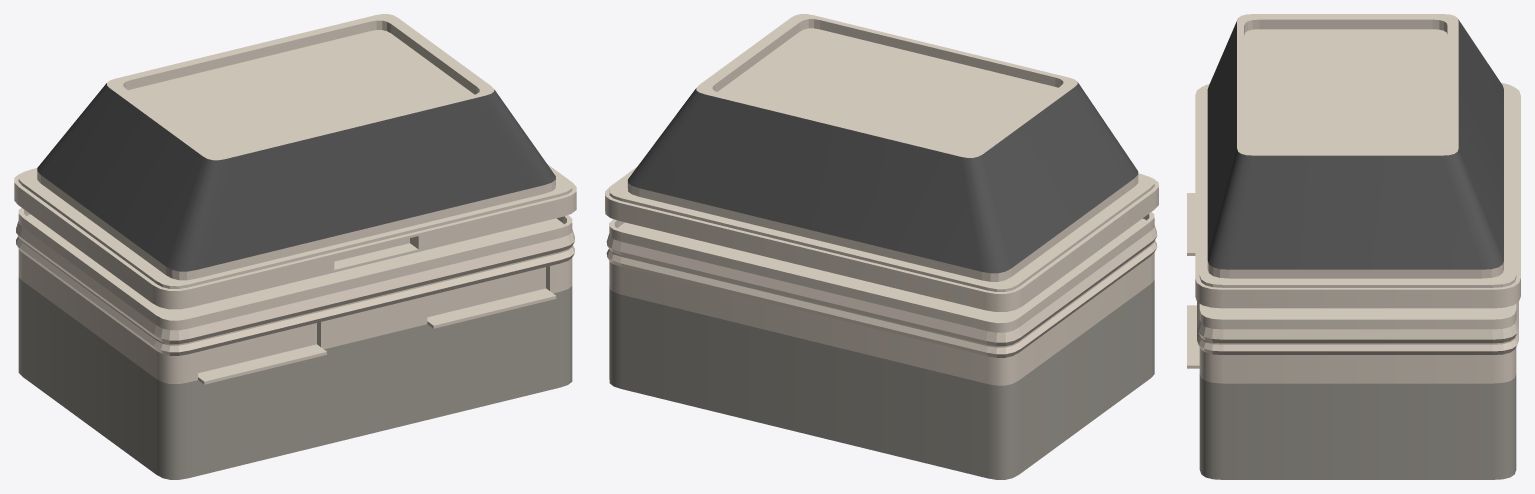
The model's file is bld_stackable_02.fbx.
The picture shows the model from 3 angles, left to right: view 1: azimuth 30°, elevation 25°; view 2: azimuth 150°, elevation 25°; view 3: azimuth 270°, elevation 25°; orthographic projection. The views are drawn at different scales.
Visible parts, largest first — view 1: bld_stackable_02; view 2: bld_stackable_02; view 3: bld_stackable_02.
Part boxes in pixels (x1,y1,x2,y2): bld_stackable_02: (14,14,576,479); bld_stackable_02: (605,14,1158,479); bld_stackable_02: (1187,14,1520,479).
Bounding box in the file's own units: 485 × 322 × 331.
